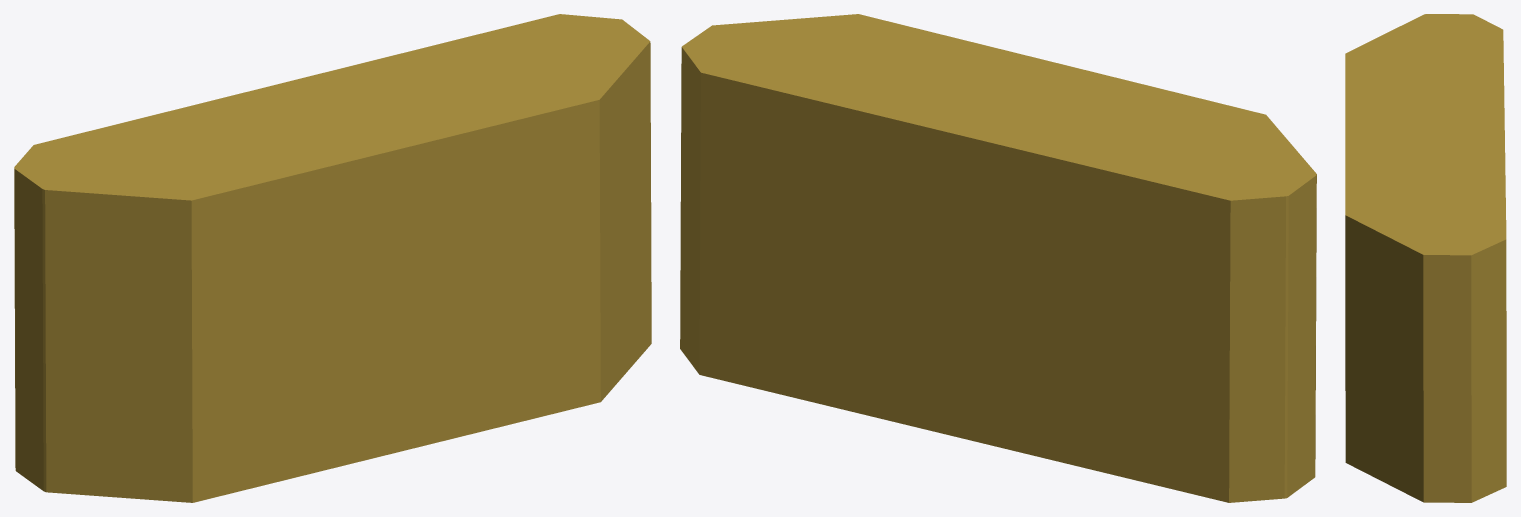
File: base_link_simplified.glb
3 views of the same model, side by side, from view 1: azimuth 30°, elevation 25°; view 2: azimuth 150°, elevation 25°; view 3: azimuth 270°, elevation 25° (orthographic). The views are drawn at different scales.
Visible parts, largest first — view 1: base_link; view 2: base_link; view 3: base_link.
Part boxes in pixels (x1=…): base_link: x1=14, y1=14, x2=651, y2=502; base_link: x1=680, y1=14, x2=1316, y2=502; base_link: x1=1345, y1=14, x2=1506, y2=502.
Size of the model in its own units: 0.8106 by 0.3871 by 0.2277.
1 material, 1 textured.
